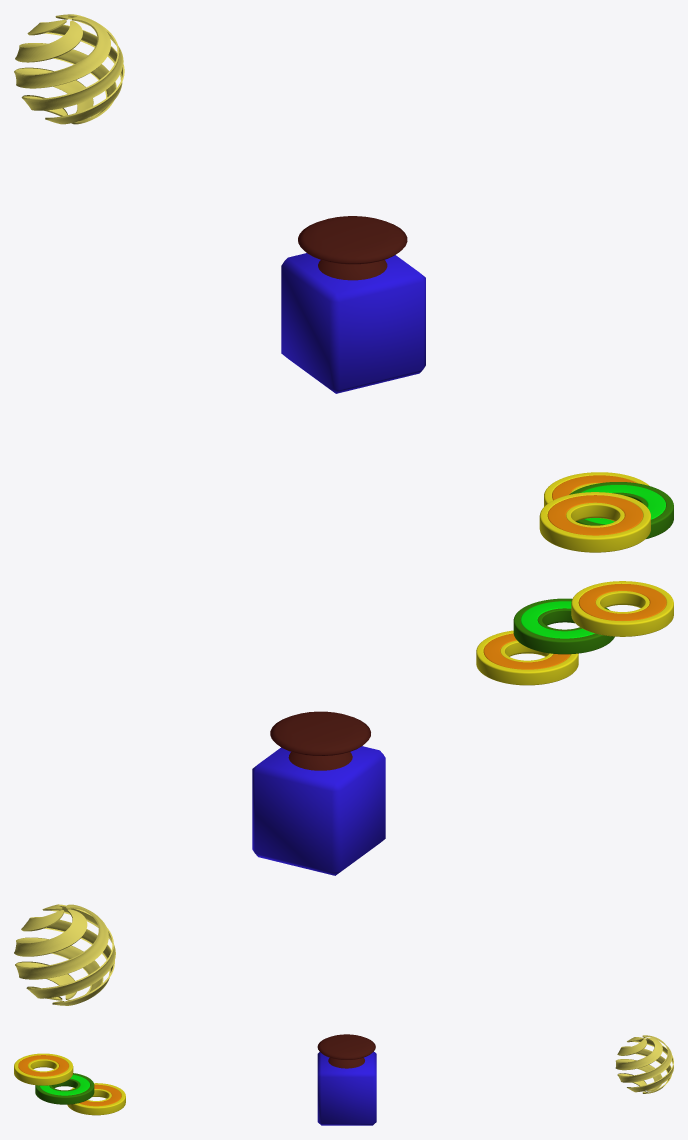
File: fidgetgallery.glb
3 views of the same model, one above another, from view 1: azimuth 30°, elevation 25°; view 2: azimuth 150°, elevation 25°; view 3: azimuth 270°, elevation 25° (orthographic). The views are drawn at different scales.
Parts seen in each view (by area): view 1: cubeBase, sphereBase, joystick, topOuter, topInner, baseOuter, baseInner; view 2: cubeBase, sphereBase, joystick, topOuter, bottomOuter, baseOuter, topInner, bottomInner, baseInner; view 3: cubeBase, sphereBase, joystick, topOuter, baseOuter, bottomOuter, topInner, baseInner, bottomInner.
Part boxes in pixels (box(x1,y1,x2,y2)): cubeBase: box(281, 253, 425, 393); sphereBase: box(14, 14, 124, 124); joystick: box(298, 216, 407, 280); topOuter: box(539, 492, 650, 552); topInner: box(547, 495, 643, 535); baseOuter: box(569, 482, 673, 538); baseInner: box(581, 485, 665, 524); cubeBase: box(252, 746, 385, 875); sphereBase: box(14, 904, 115, 1005); joystick: box(270, 711, 370, 770); topOuter: box(571, 581, 673, 636); bottomOuter: box(476, 630, 578, 685); baseOuter: box(513, 598, 614, 654); topInner: box(578, 583, 666, 620); bottomInner: box(483, 633, 570, 669); baseInner: box(520, 601, 594, 638); cubeBase: box(317, 1052, 376, 1125); sphereBase: box(615, 1035, 673, 1093); joystick: box(317, 1034, 375, 1068); topOuter: box(14, 1053, 73, 1085); baseOuter: box(35, 1073, 94, 1104); bottomOuter: box(67, 1083, 125, 1115); topInner: box(18, 1055, 68, 1076); baseInner: box(39, 1074, 89, 1095); bottomInner: box(79, 1084, 121, 1106).
Size of the model in its own units: 3.11 by 2.82 by 22.29.
